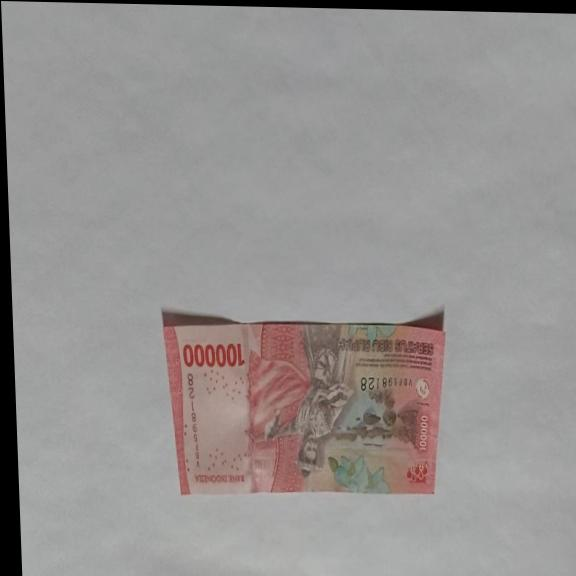Kertas: (161, 310, 452, 502), (181, 340, 245, 371)
